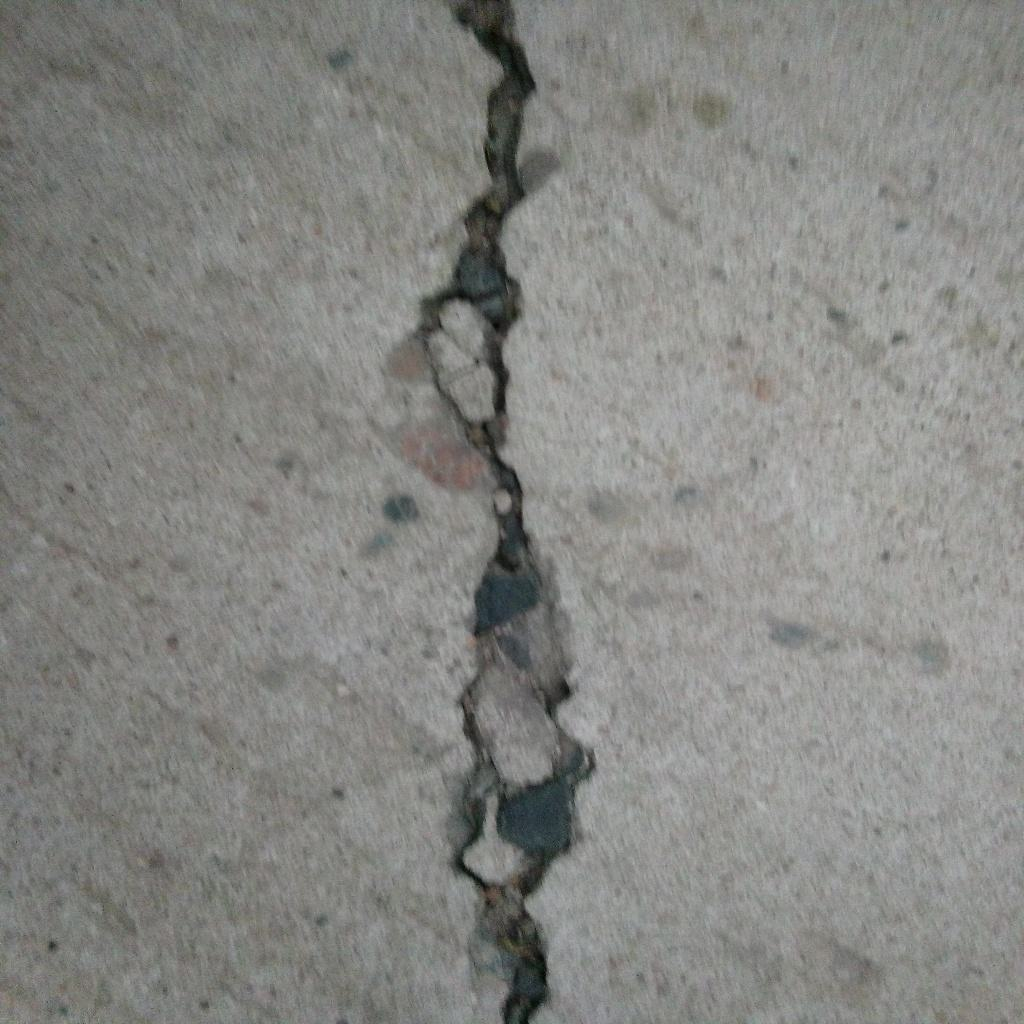Crack: (416, 1, 597, 1024)
